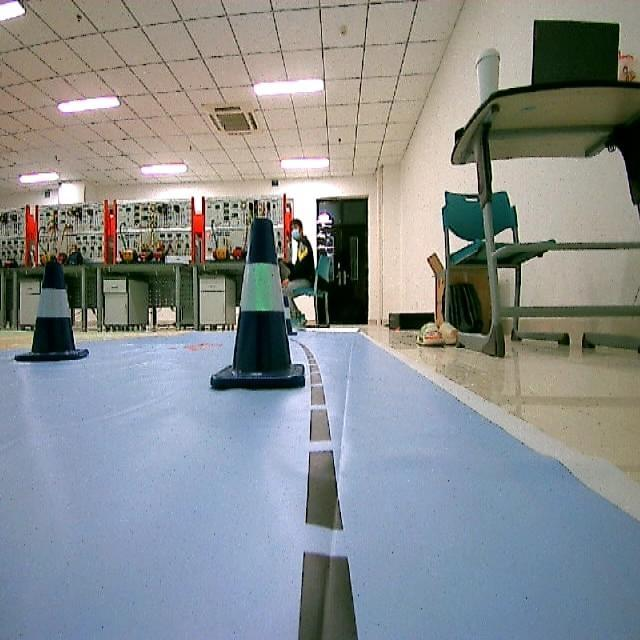obstacle: (210, 216, 302, 390), (15, 255, 86, 364)
